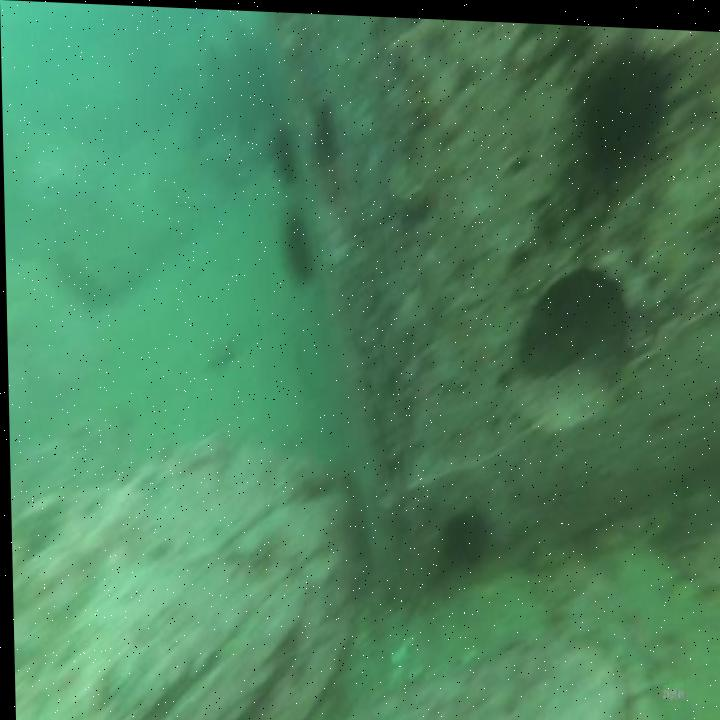echinus: (576, 38, 663, 185), (282, 209, 318, 283), (312, 91, 340, 170), (270, 118, 299, 186)
